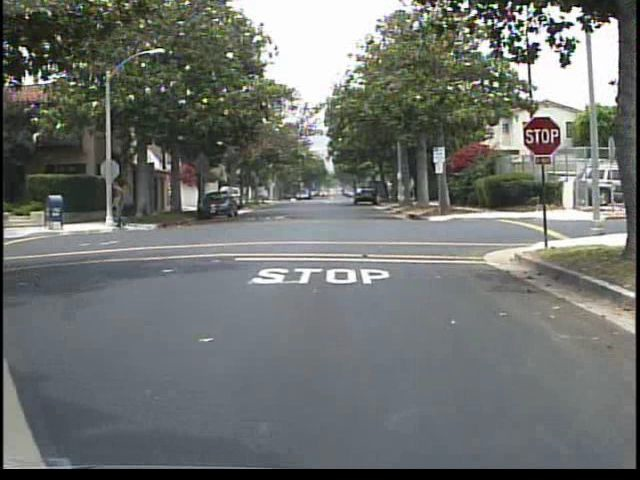person: (107, 174, 134, 233)
